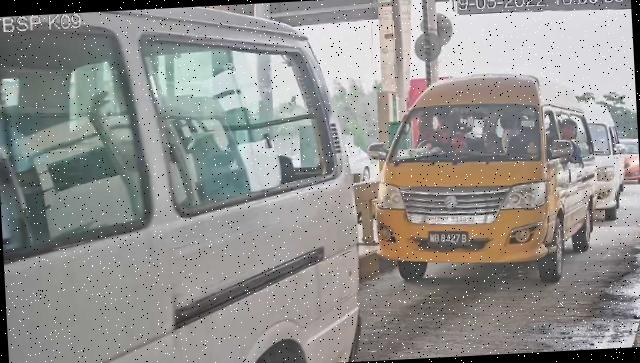License_Plate: (427, 228, 471, 252)
van: (370, 70, 603, 294)
